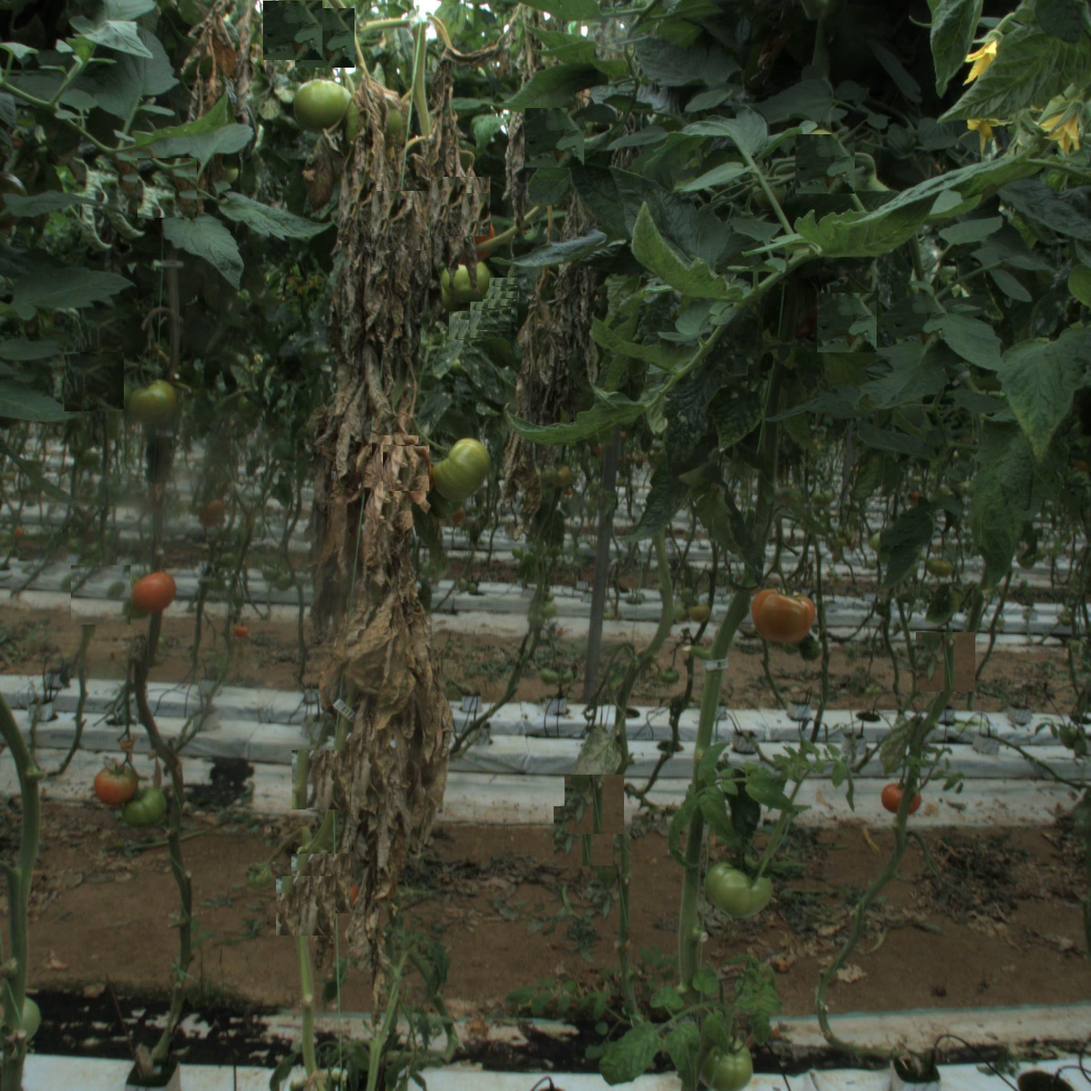fully-ripe: (753, 588, 808, 642), (134, 570, 178, 614), (879, 778, 920, 820)
semi-ripe: (94, 765, 139, 810)
unripe: (710, 849, 774, 913), (292, 77, 346, 132), (436, 439, 490, 494), (705, 1033, 760, 1087), (441, 254, 491, 304), (121, 786, 166, 831), (128, 381, 172, 425)
